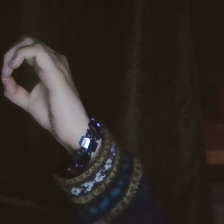O: (1, 24, 89, 141)
